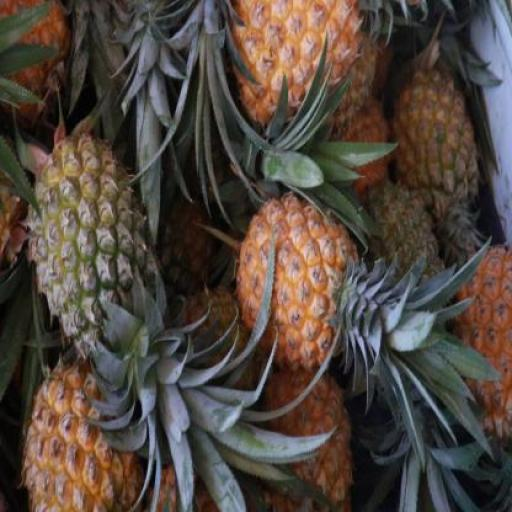------------------------------: (28, 131, 159, 354), (394, 69, 480, 241)
Pineapple - v8 v1: (236, 193, 358, 378), (27, 340, 143, 512), (236, 0, 390, 126)
